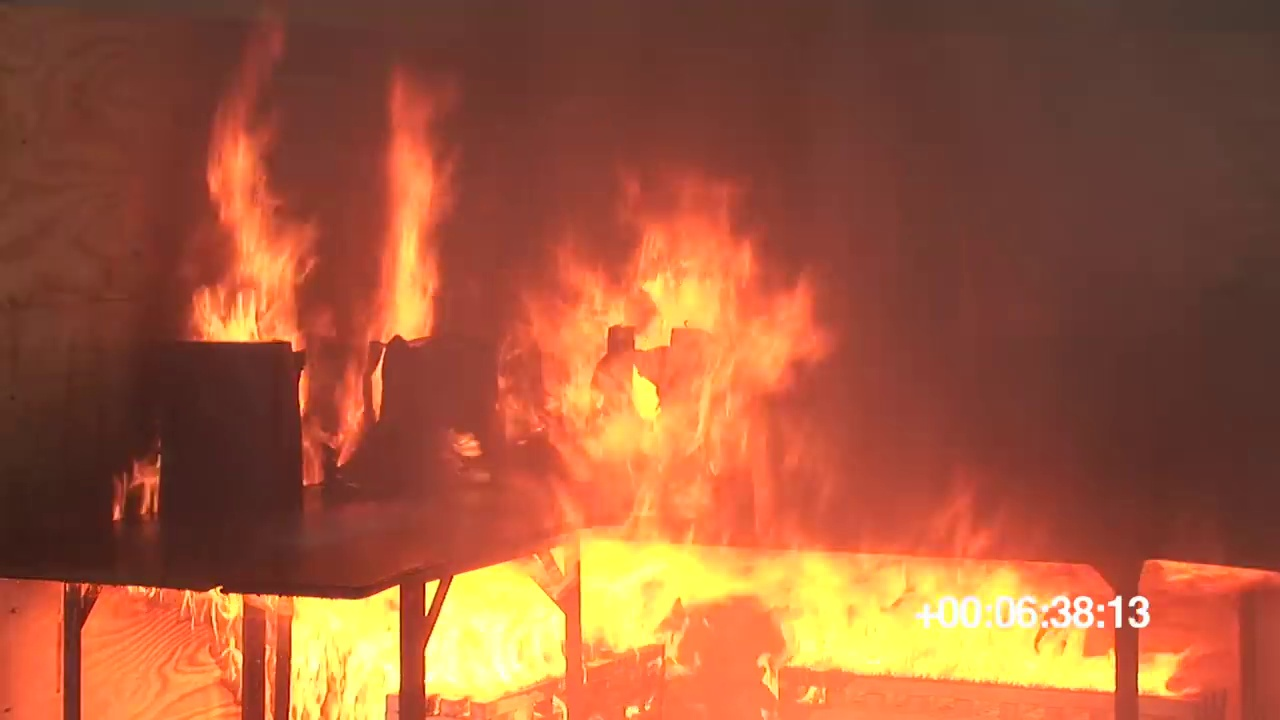fire: (281, 534, 764, 720), (515, 183, 782, 491), (775, 495, 1179, 689), (199, 78, 292, 342), (374, 73, 434, 331)
